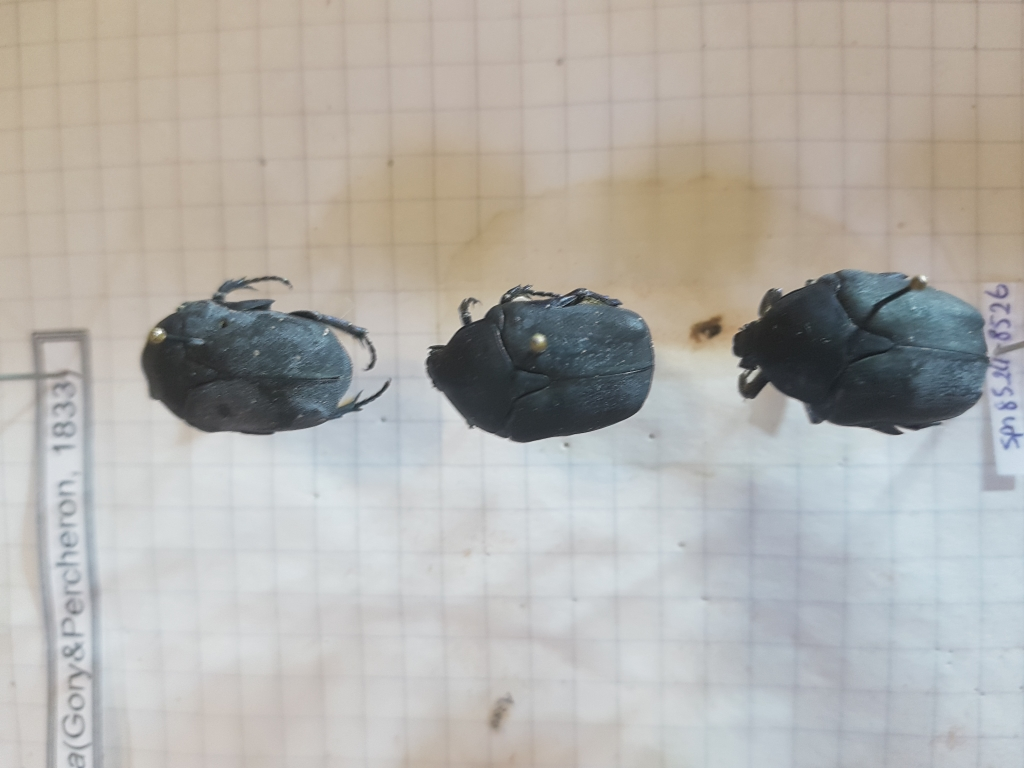Protaetia_afflicta: (713, 263, 993, 443), (132, 268, 394, 439), (425, 281, 659, 446)
